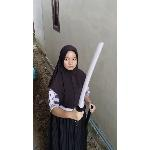Pedang: (70, 39, 106, 129)
